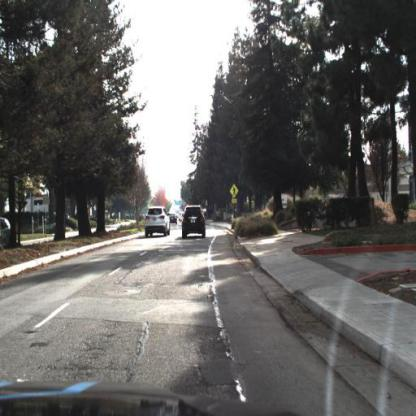car: (144, 206, 171, 241), (183, 205, 208, 240)
